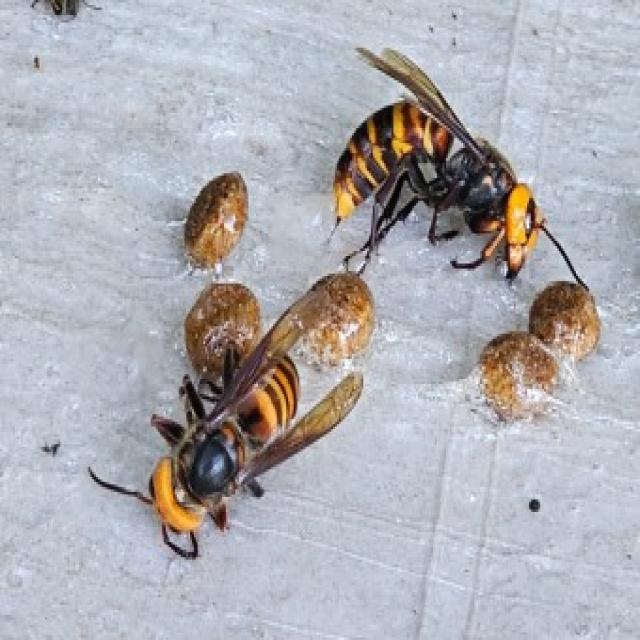Wasp: (140, 292, 360, 560), (322, 33, 546, 278)
